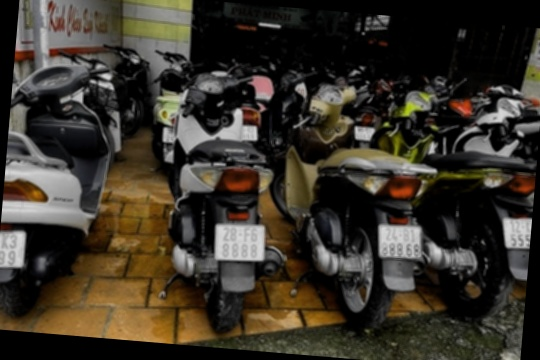Bien-so: (218, 230, 271, 269), (384, 217, 433, 251), (0, 258, 27, 297), (511, 199, 539, 233), (352, 117, 373, 133), (236, 126, 254, 143), (156, 134, 169, 153)
